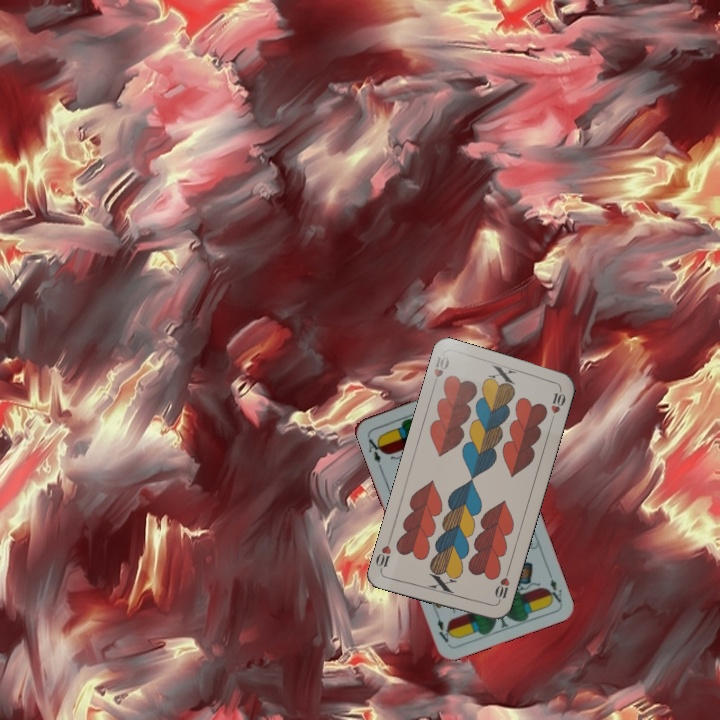EA: (363, 431, 386, 470), (543, 566, 564, 605)
H10: (428, 352, 452, 391), (491, 567, 512, 606)
